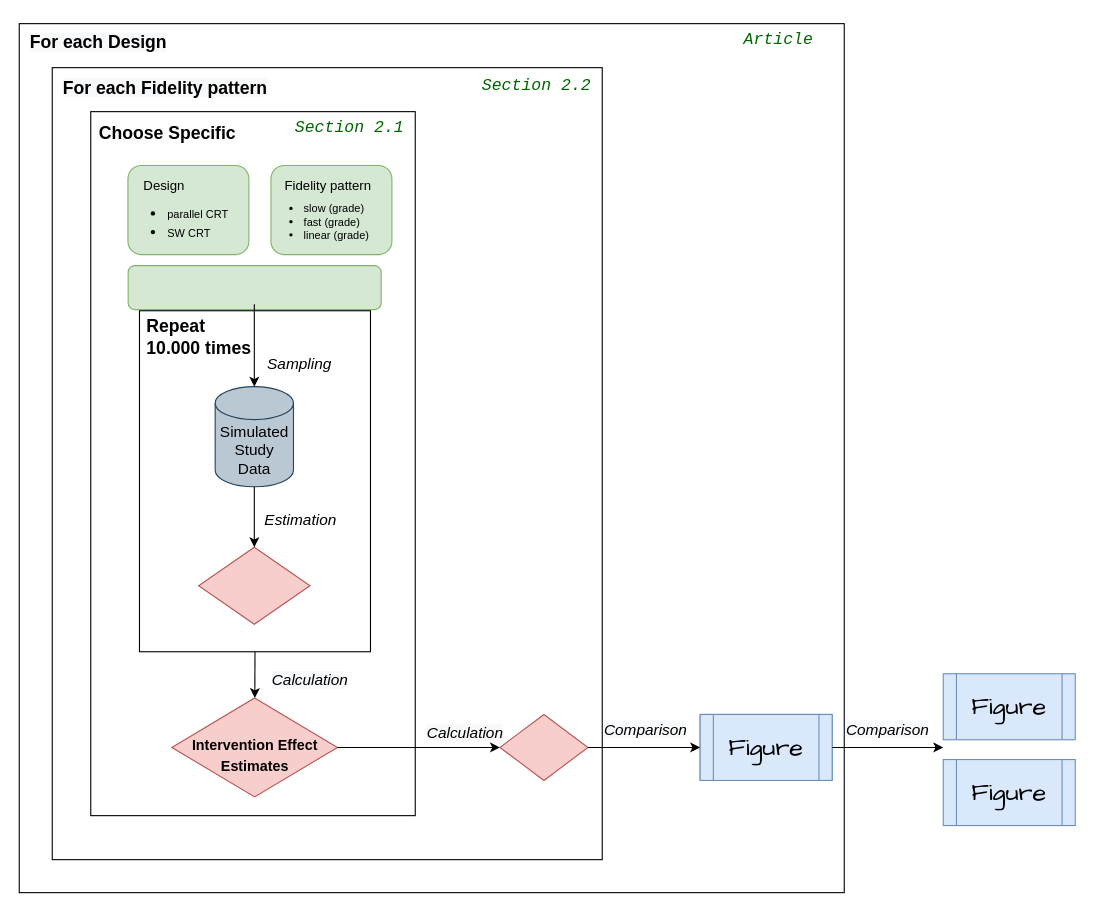
Image size: 1095x912. Some labels were removed from this diagram. Here are the shapes that lost their labels. From the top down, the box of each, then its label:
(127, 265, 381, 310): Defined Study
(198, 546, 310, 624): Intervention Effect
(499, 713, 588, 780): Power
